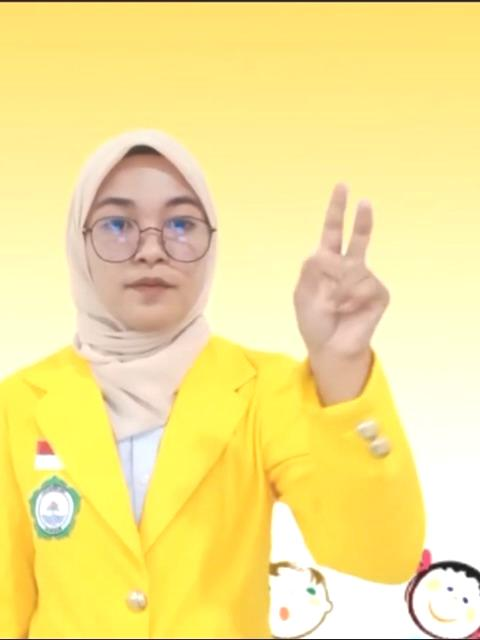U: (290, 180, 402, 376)
